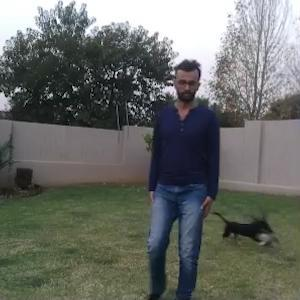follow: (149, 63, 218, 298)
